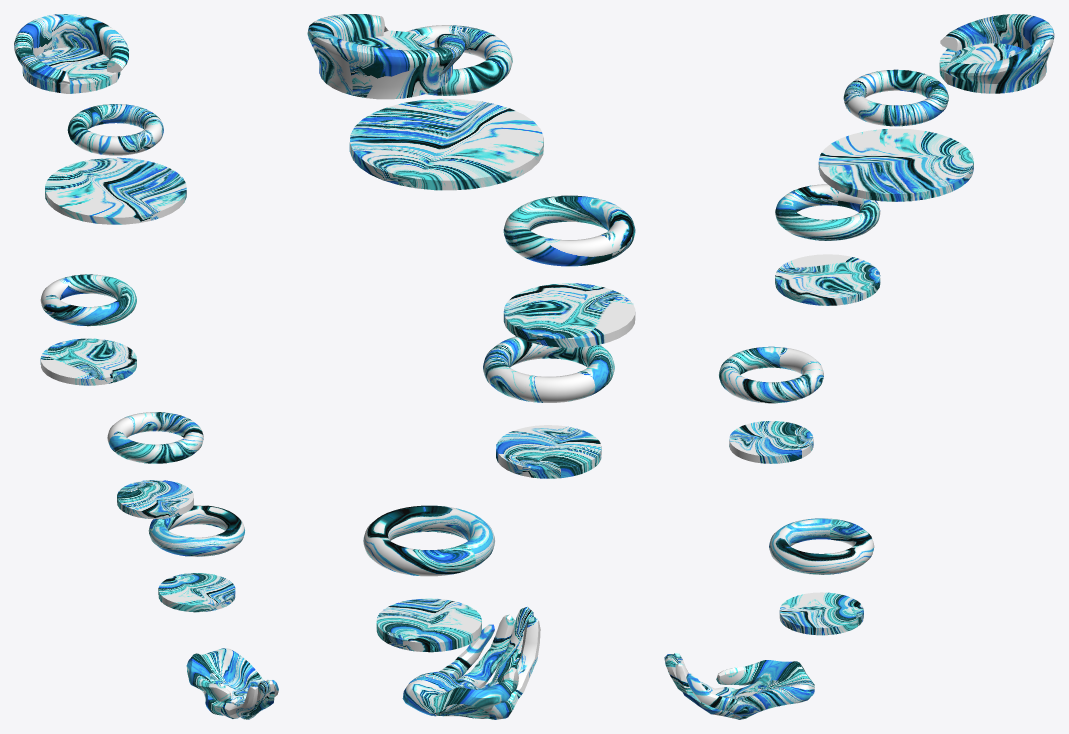
File: 04_rings of nyx.fbx
3 views of the same model, side by side, from view 1: azimuth 30°, elevation 25°; view 2: azimuth 150°, elevation 25°; view 3: azimuth 270°, elevation 25° (orthographic). The views are drawn at different scales.
Parts seen in each view (by area): view 1: plateau1, start, Plane.010, plateau2, Torus.002, Torus, Torus.001, Torus.003, plateau4.001, plateau3; view 2: plateau1, start, Plane.010, plateau2, Torus.001, Torus.003, Torus.002, plateau4.001, plateau3, Torus; view 3: plateau1, start, Plane.010, plateau2, Torus.003, Torus.002, Torus, Torus.001, plateau4.001, plateau3.
Part boxes in pixels (x1=…): plateau1: x1=45, y1=157, x2=186, y2=224; start: x1=14, y1=14, x2=128, y2=93; Plane.010: x1=186, y1=648, x2=278, y2=719; plateau2: x1=40, y1=338, x2=136, y2=385; Torus.002: x1=107, y1=412, x2=203, y2=463; Torus: x1=67, y1=104, x2=163, y2=155; Torus.001: x1=40, y1=274, x2=136, y2=326; Torus.003: x1=148, y1=505, x2=244, y2=556; plateau4.001: x1=158, y1=573, x2=235, y2=612; plateau3: x1=117, y1=480, x2=193, y2=519; plateau1: x1=349, y1=98, x2=543, y2=190; start: x1=307, y1=14, x2=464, y2=99; Plane.010: x1=402, y1=606, x2=540, y2=719; plateau2: x1=503, y1=283, x2=635, y2=347; Torus.001: x1=503, y1=195, x2=635, y2=266; Torus.003: x1=363, y1=505, x2=494, y2=576; Torus.002: x1=483, y1=336, x2=614, y2=402; plateau4.001: x1=376, y1=598, x2=481, y2=652; plateau3: x1=496, y1=425, x2=601, y2=478; Torus: x1=406, y1=25, x2=512, y2=95; plateau1: x1=818, y1=128, x2=973, y2=201; start: x1=939, y1=14, x2=1054, y2=93; Plane.010: x1=664, y1=653, x2=814, y2=719; plateau2: x1=775, y1=254, x2=880, y2=305; Torus.003: x1=769, y1=518, x2=874, y2=574; Torus.002: x1=719, y1=346, x2=823, y2=403; Torus: x1=843, y1=69, x2=948, y2=126; Torus.001: x1=775, y1=184, x2=880, y2=240; plateau4.001: x1=779, y1=592, x2=863, y2=635; plateau3: x1=729, y1=421, x2=813, y2=463.
Bounding box in the file's own units: 7.25 × 22.09 × 11.87.
